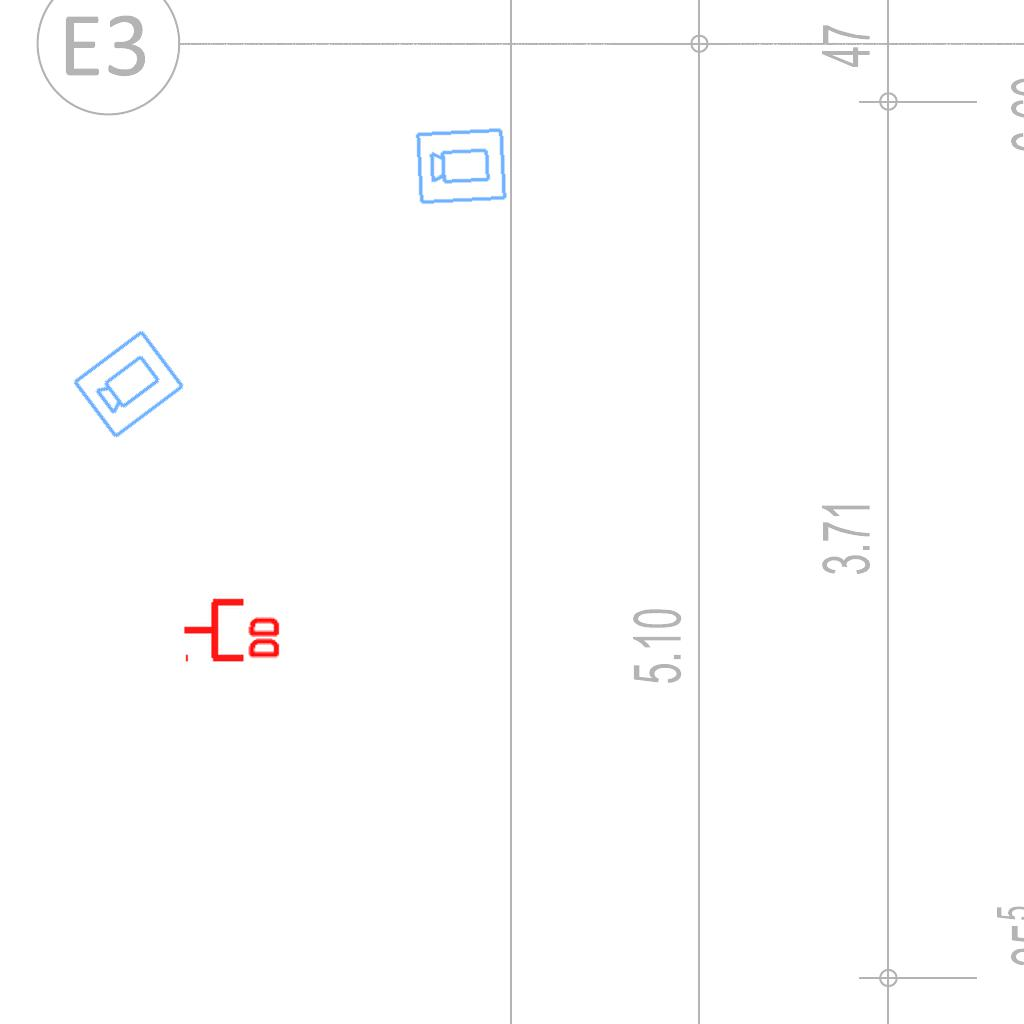Datenanschluss_zweifach: (181, 594, 284, 663)
KFO_Kamera_mit_Festobjektiv: (68, 325, 189, 442), (414, 124, 509, 207)
